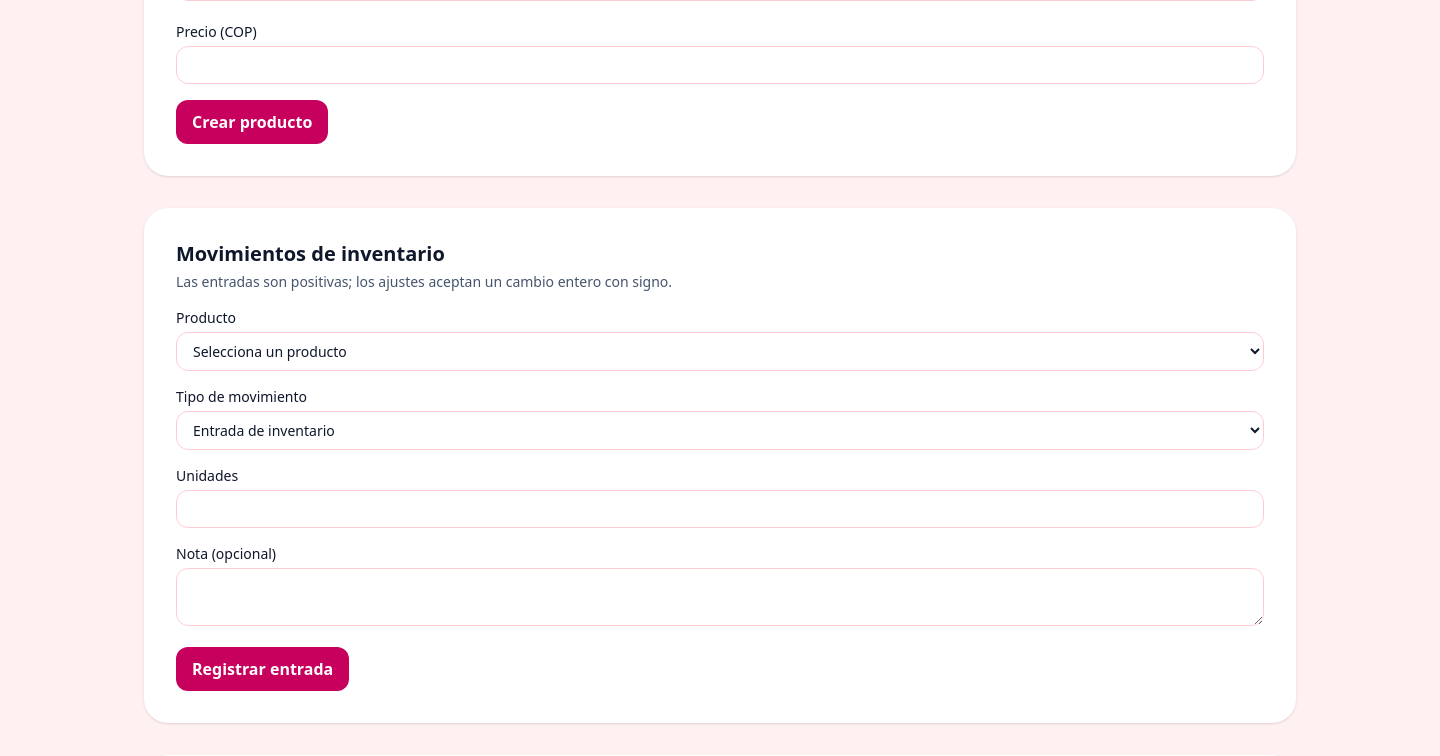
Test case: administrator stock movement form › reports refresh failure as a stale view after a successful mutation
The width and height of the screenshot is (1440, 756).
(page scrolled)
Select "KW-001 · Sticker kawaii" in the dropdown labelled "Producto" at {"x": 720, "y": 352}, box [176,332,1264,371]
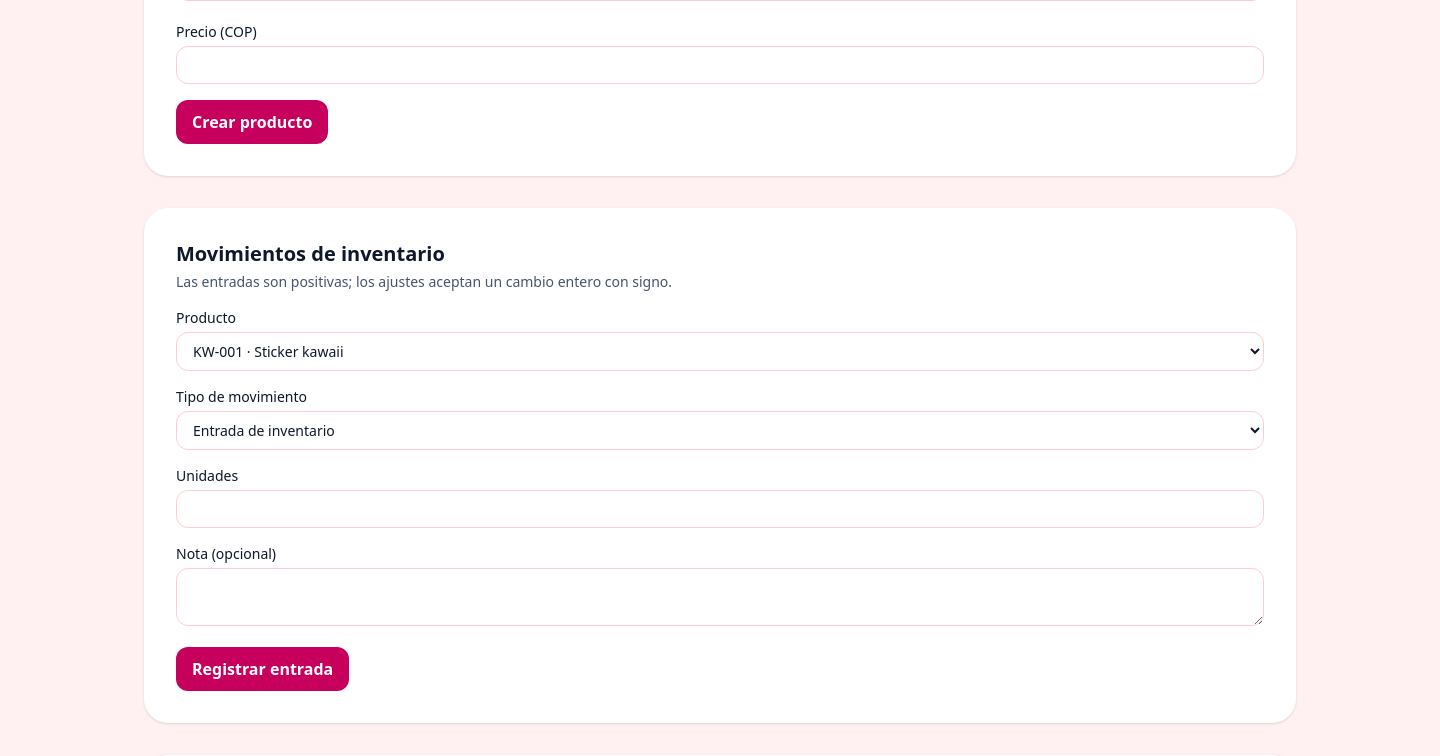
Type "3" into the number field labelled "Unidades" at {"x": 720, "y": 509}, box [176,490,1264,528]
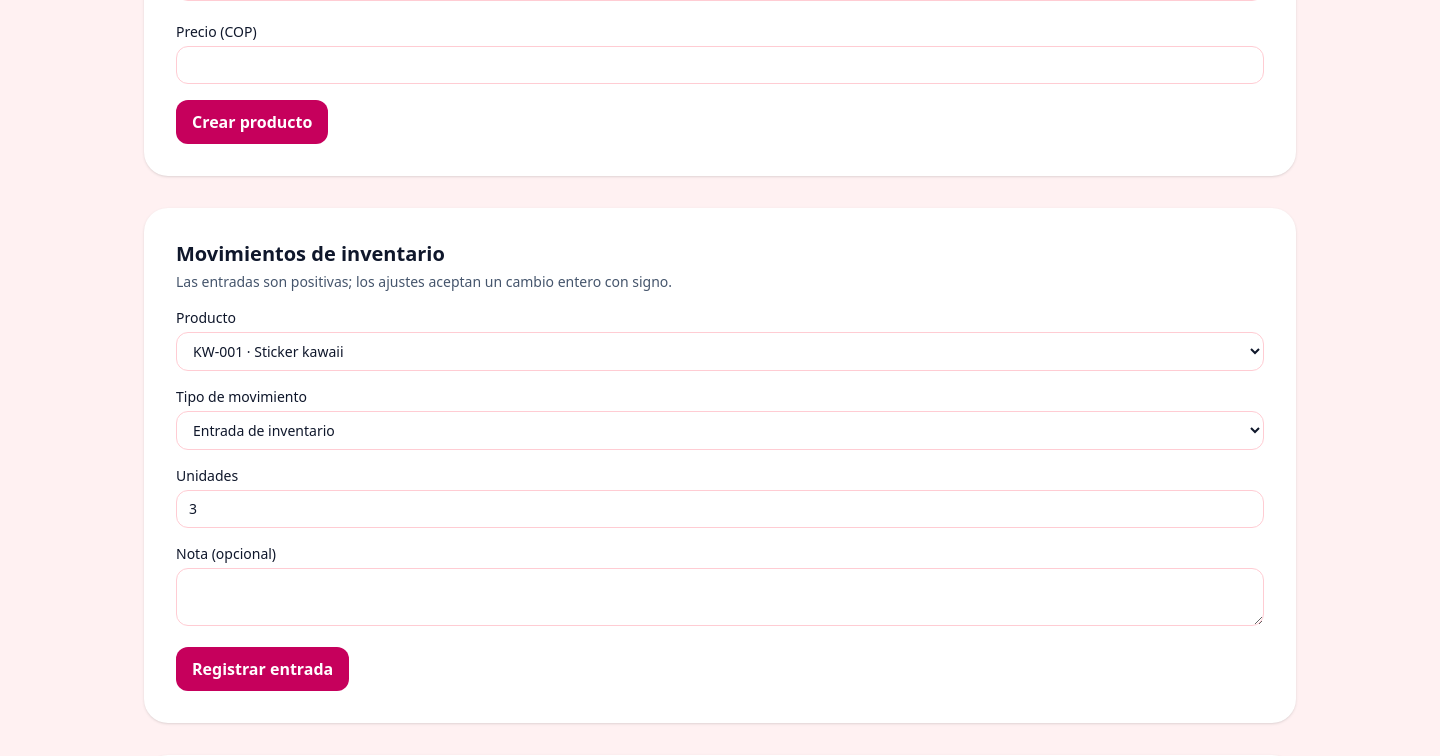
Submit the form named "Registrar movimiento de inventario", box [144,208,1296,723]
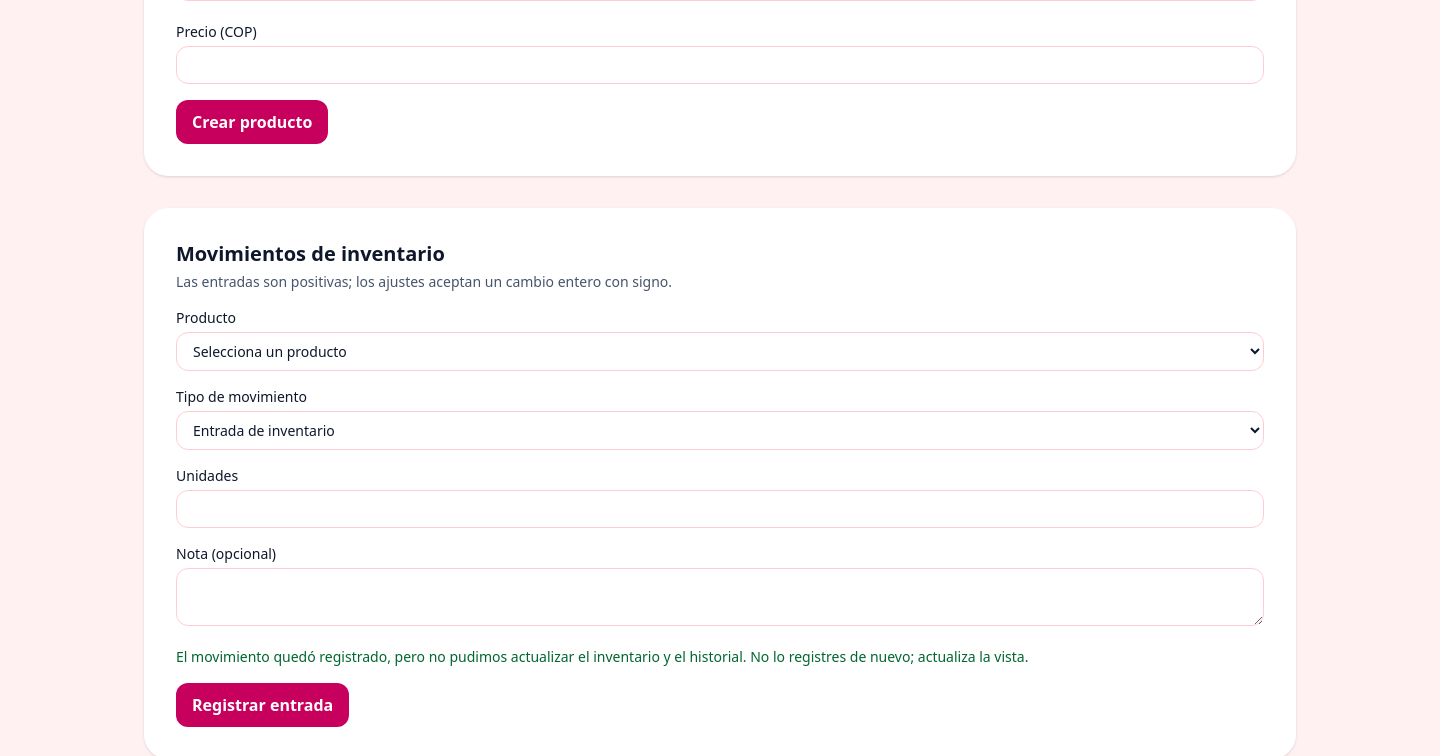
Now the message shows "El movimiento quedó registrado, pero no pudimos actualizar el inventario y el historial", box [176,647,1028,666]
Now the number field labelled "Unidades" is not empty, box [176,490,1264,528]
